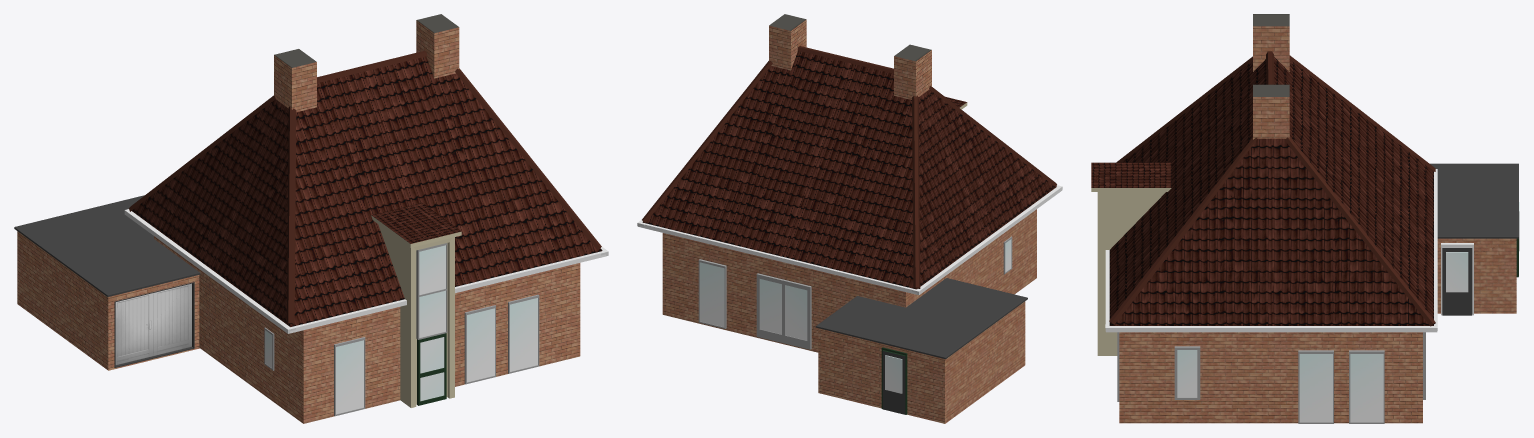
Rendered from Estrik 2.fbx.
3 views of the same model, side by side, from view 1: azimuth 30°, elevation 25°; view 2: azimuth 150°, elevation 25°; view 3: azimuth 270°, elevation 25° (orthographic). The views are drawn at different scales.
Visible parts, largest first — view 1: Estrik_2_Type_B; view 2: Estrik_2_Type_B; view 3: Estrik_2_Type_B.
Part boxes in pixels (x1=…): Estrik_2_Type_B: x1=14, y1=14, x2=608, y2=423; Estrik_2_Type_B: x1=637, y1=14, x2=1062, y2=423; Estrik_2_Type_B: x1=1091, y1=14, x2=1519, y2=423.
Bounding box in the file's own units: 14.61 × 10.55 × 13.64.
Materials: 1 (1 with a texture image).
